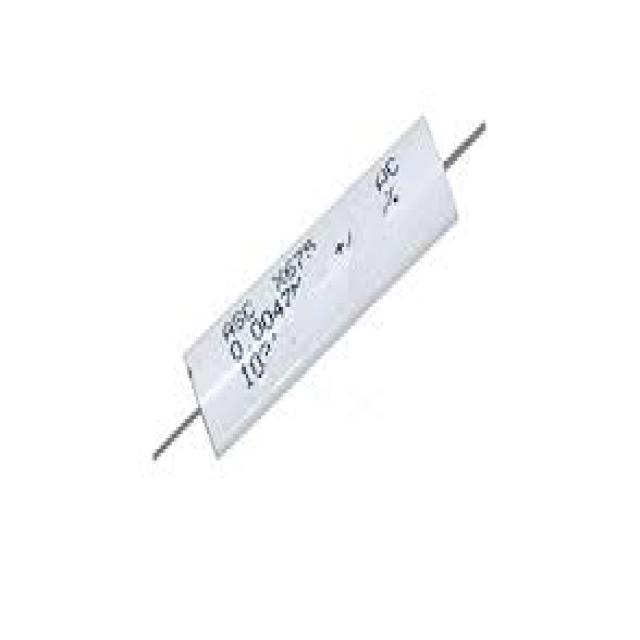Capacitor: (152, 112, 488, 464)
